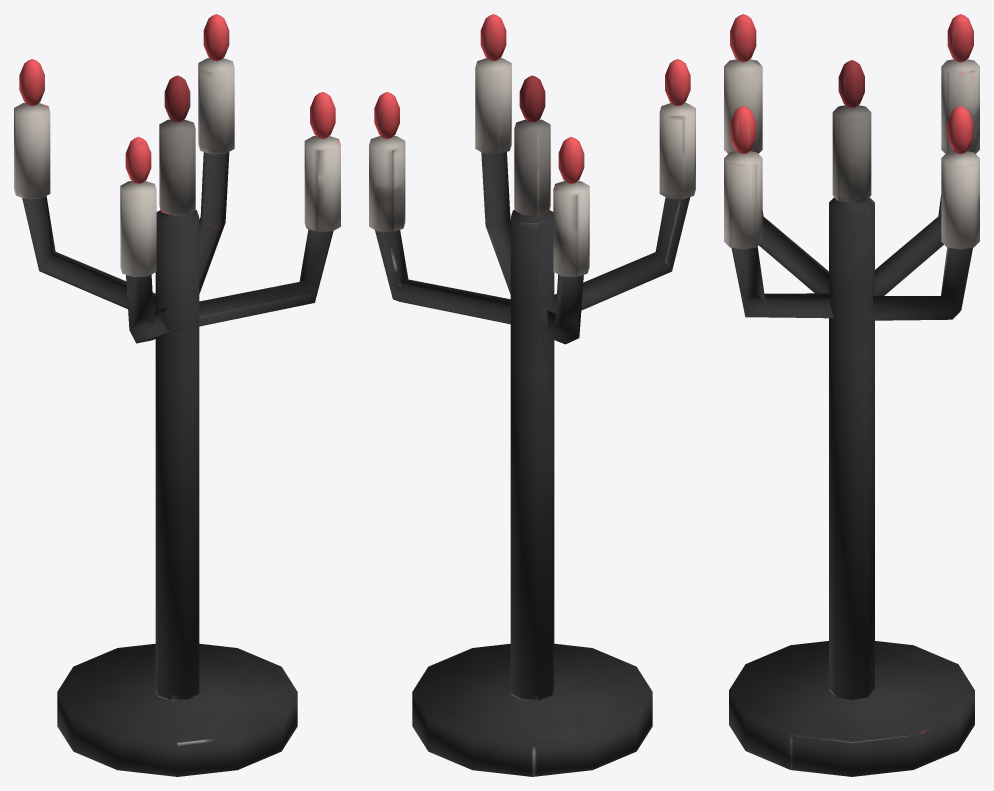
Rendered from candelabra.obj.
The picture shows the model from 3 angles, left to right: view 1: azimuth 30°, elevation 25°; view 2: azimuth 150°, elevation 25°; view 3: azimuth 270°, elevation 25°; orthographic projection. The views are drawn at different scales.
Visible parts, largest first — view 1: part0, part1, fire; view 2: part0, part1, fire; view 3: part0, part1, fire.
Boxes of the visible parts, <box> form: part0: <box>22,152,333,776</box>; part1: <box>14,58,340,277</box>; fire: <box>19,14,335,184</box>; part0: <box>375,152,690,776</box>; part1: <box>369,58,695,277</box>; fire: <box>374,14,690,184</box>; part0: <box>729,194,974,776</box>; part1: <box>724,59,979,249</box>; fire: <box>730,14,973,154</box>.
Bounding box in the file's own units: 0.3329 × 0.955 × 0.3329.
